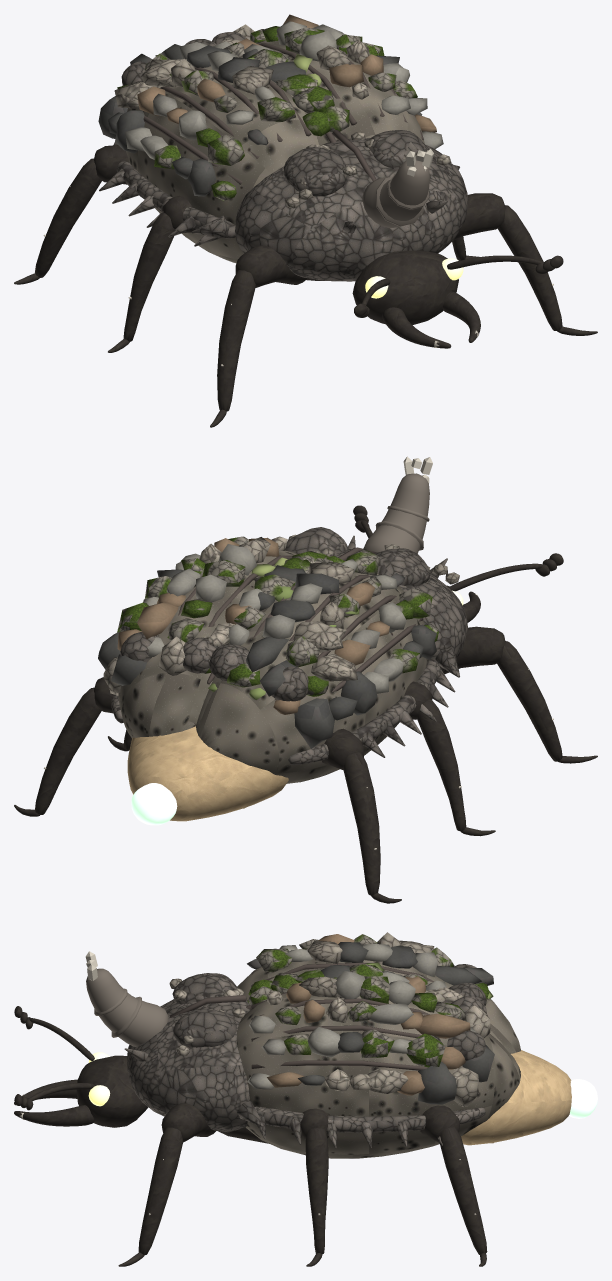
The model's file is rock_beetle_v2.glb.
3 renders of one model, top to bottom at view 1: azimuth 30°, elevation 25°; view 2: azimuth 150°, elevation 25°; view 3: azimuth 270°, elevation 25°, orthographic. The views are drawn at different scales.
Parts seen in each view (by area): view 1: body, leg_l0, leg_r0, leg_l2, leg_l1; view 2: body, leg_l0, leg_l2, leg_r2, leg_l1; view 3: body, leg_r0, leg_r2, leg_r1.
Part boxes in pixels (x1,y1,x2,y2): body: (98,14,563,348); leg_l0: (210,245,307,427); leg_r0: (453,193,597,335); leg_l2: (14,145,129,284); leg_l1: (108,195,195,352); body: (98,456,563,825); leg_l0: (443,626,597,763); leg_l2: (321,728,401,903); leg_r2: (14,677,114,816); leg_l1: (404,681,495,836); body: (14,932,597,1158); leg_r0: (118,1103,215,1266); leg_r2: (419,1105,487,1266); leg_r1: (300,1108,328,1266).
Bounding box in the file's own units: 1.16 × 0.7154 × 1.65.
Materials: 16 (9 with a texture image).
